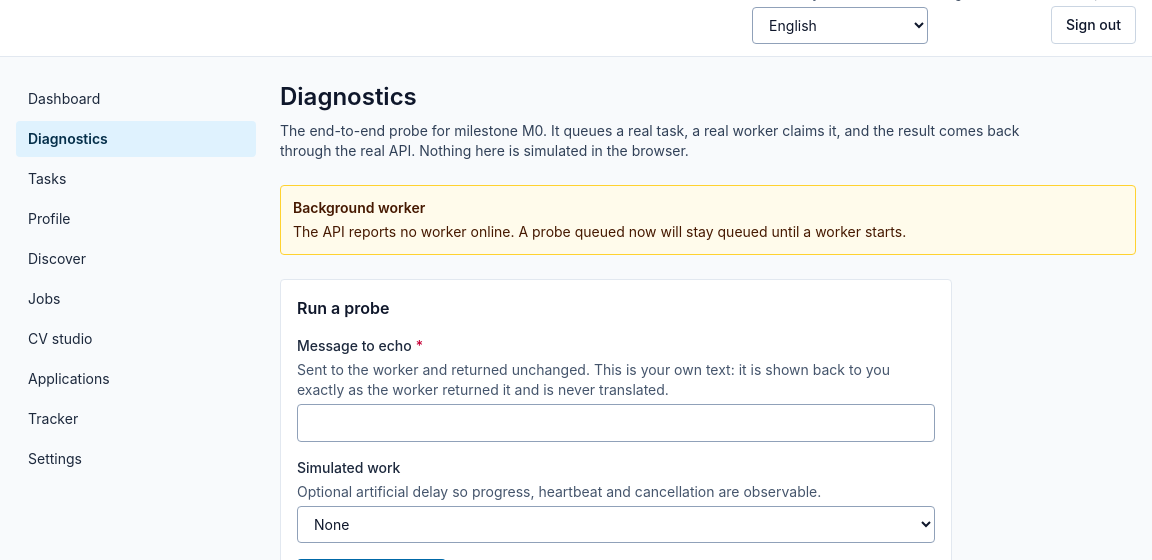
Test: diagnostics screen › says plainly that a queued task will not run while no worker is online
Expected: the text "A probe queued now will stay queued until a worker starts" is shown, left=293, top=223, right=906, bottom=240
Type "hola mundo" into the field labelled "Message to echo*". click: (616, 423)
box: left=297, top=404, right=935, bottom=442
(page scrolled)
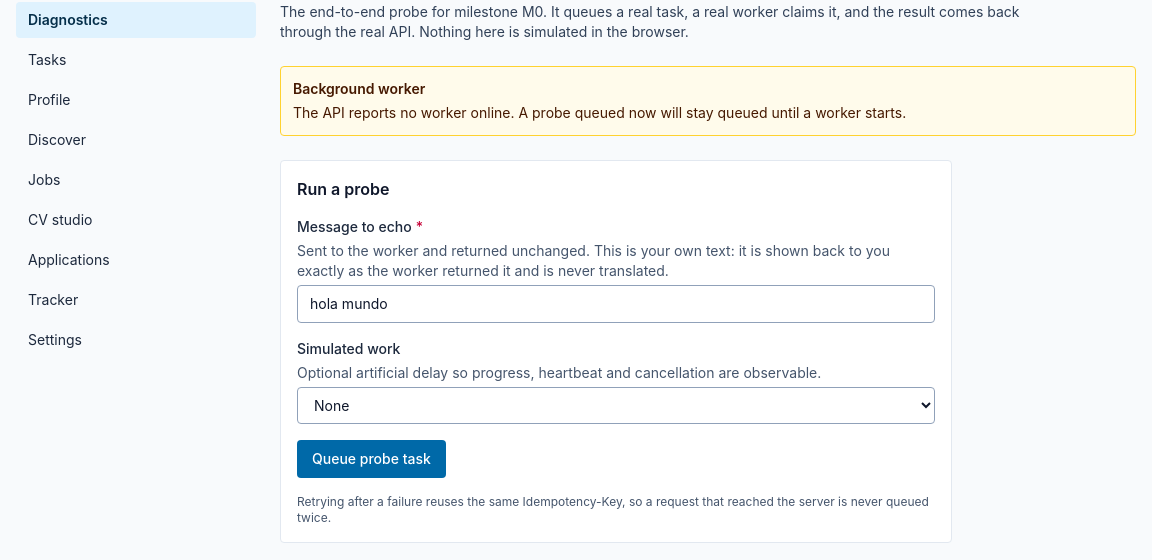
Click the button "Queue probe task". click: (371, 459)
box: left=297, top=440, right=446, bottom=478
Wait 10000 ms
(page scrolled)
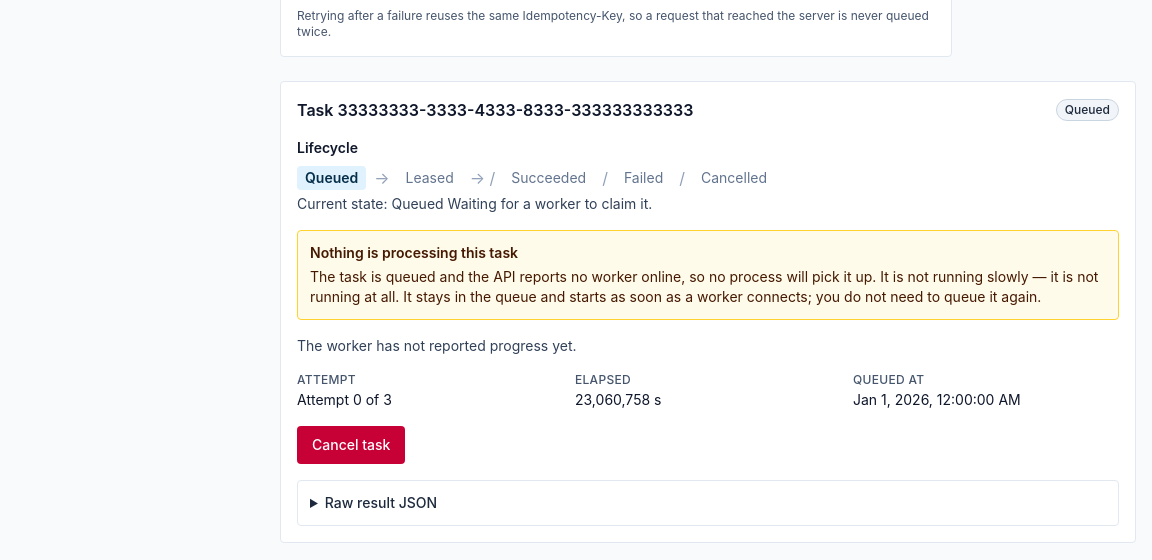
Now the text with test id "queued-no-worker" shows "no worker online", box left=310, top=268, right=1098, bottom=305
Now the text with test id "queued-no-worker" shows "It is not running slowly — it is not running at all.", box left=310, top=268, right=1098, bottom=305
Now the text with test id "queued-no-worker" shows "you do not need to queue it again", box left=310, top=268, right=1098, bottom=305
